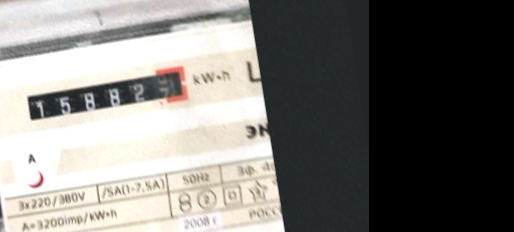1: (33, 98, 45, 117)
2: (130, 80, 145, 102)
5: (55, 94, 71, 115)
7: (155, 83, 169, 97)
8: (105, 84, 121, 107), (81, 89, 96, 110)
screen: (19, 62, 192, 128)
